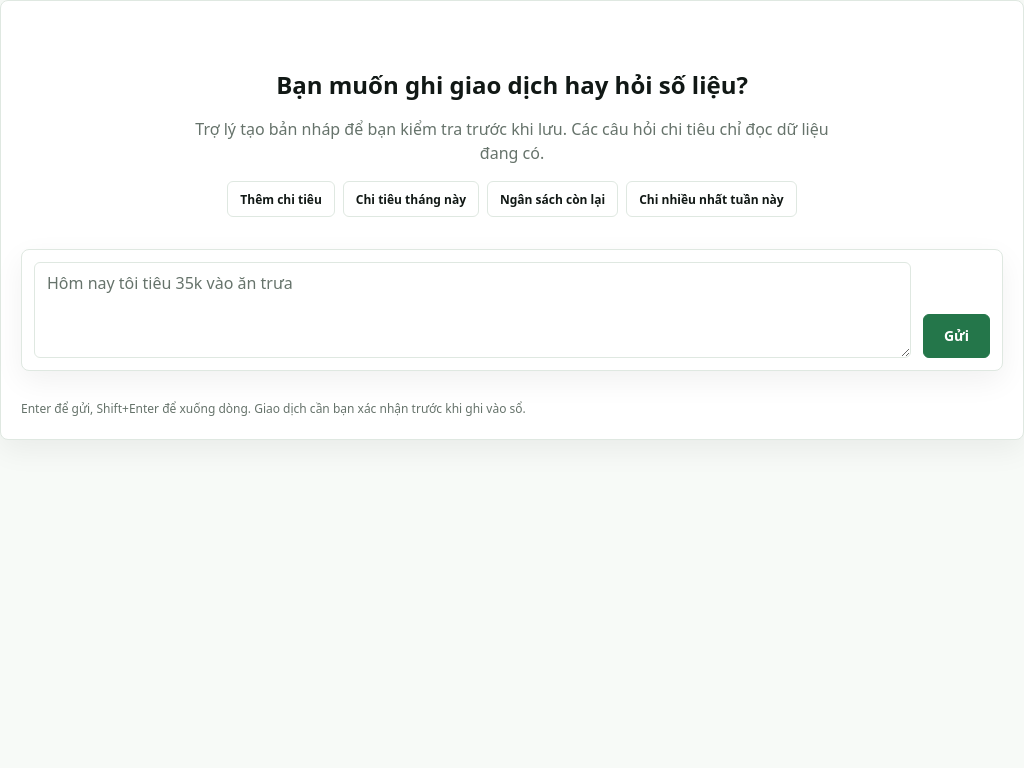
it: insight chat UI › routes colloquial transaction statements to parse and renders a clean draft
Type "hôm nay tao ăn hộp cơm gà 28k" into the text box named "Chat to ledger message".
click(472, 310); type("hôm nay tao ăn hộp cơm gà 28k")  # box [34,262,911,358]
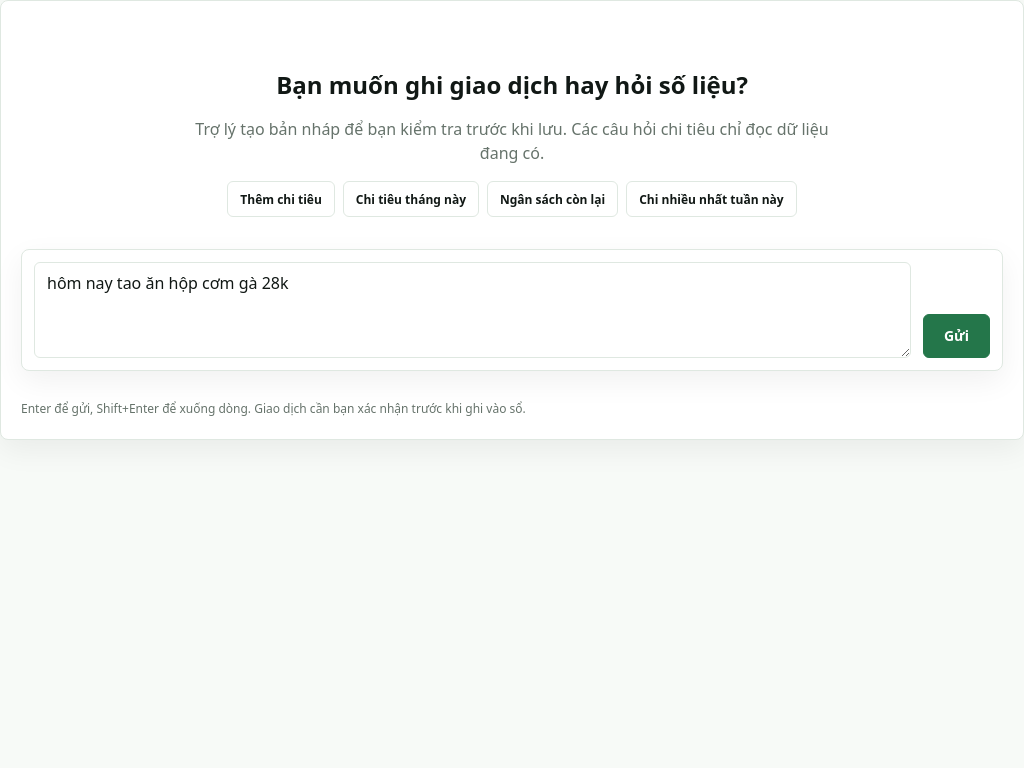
Click the button "Gửi".
click(956, 336)  # box [923,314,990,358]
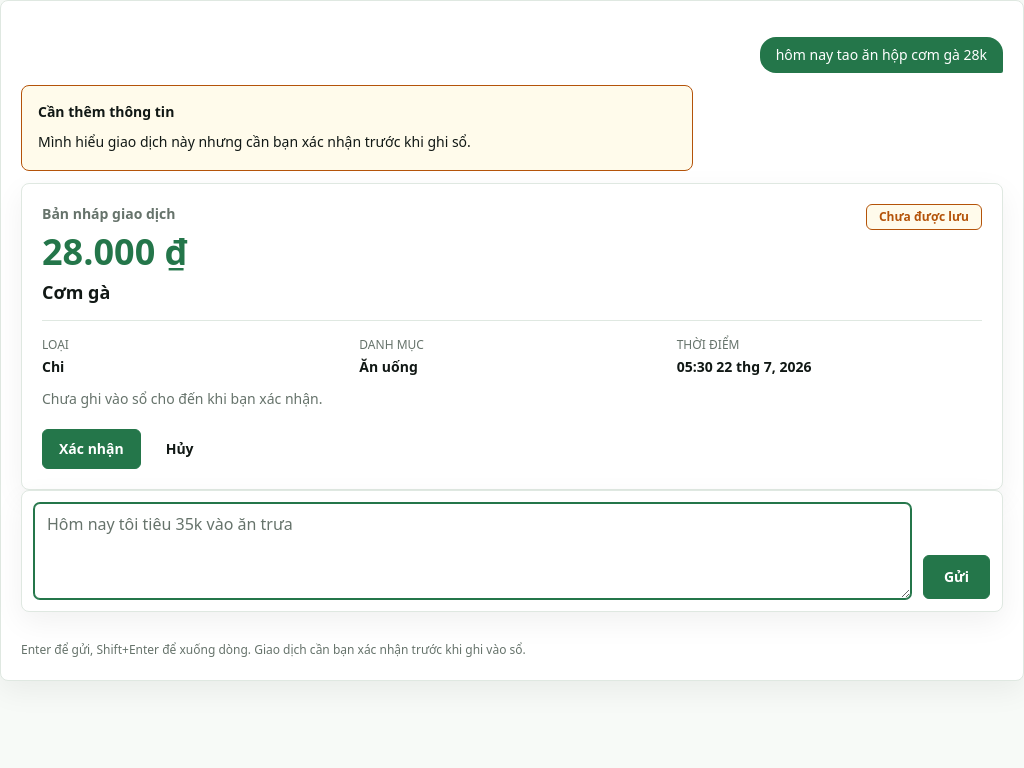
Check: the text "Bản nháp giao dịch" is shown, box [42,204,188,224]
Check: the text "Cơm gà" is shown, box [42,280,110,304]
Check: the text "Ăn uống" is shown, box [359,357,418,376]
